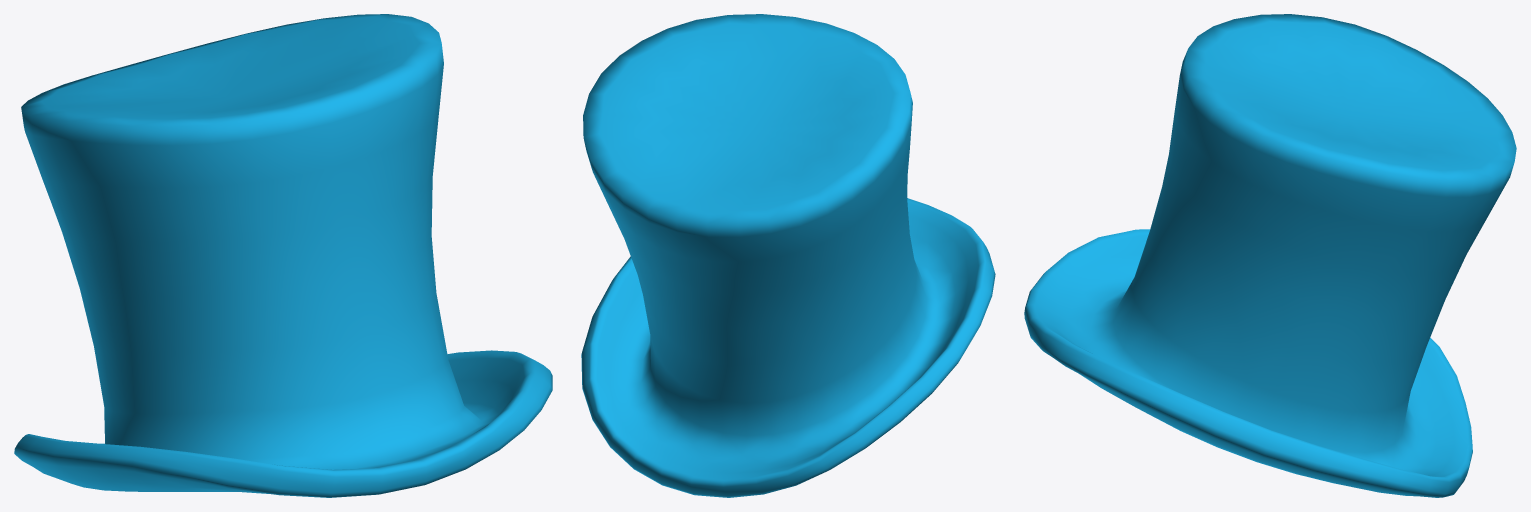
The model's file is LongHat.FBX.
3 views of the same model, side by side, from view 1: azimuth 30°, elevation 25°; view 2: azimuth 150°, elevation 25°; view 3: azimuth 270°, elevation 25° (orthographic). The views are drawn at different scales.
Visible parts, largest first — view 1: Hat Long; view 2: Hat Long; view 3: Hat Long.
Boxes of the visible parts, <box> form: Hat Long: <box>14,14,552,497</box>; Hat Long: <box>581,14,995,497</box>; Hat Long: <box>1024,14,1516,497</box>.
Size of the model in its own units: 1141 by 1164 by 1285.
